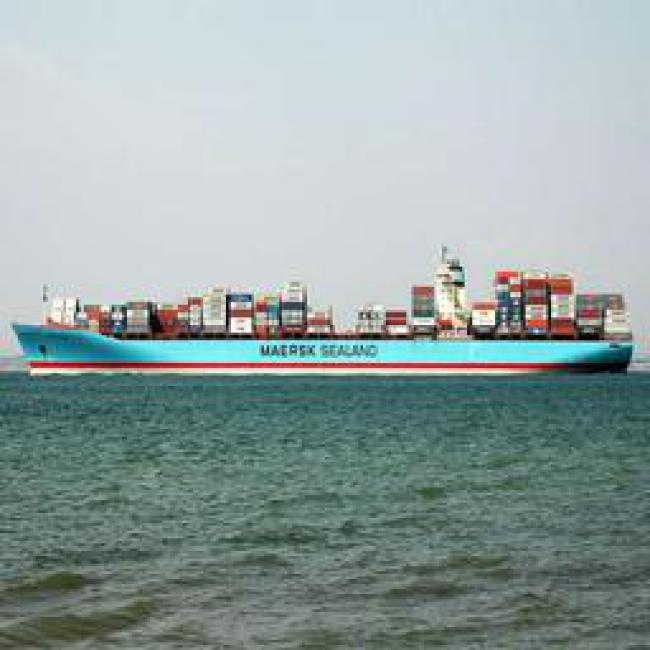Ship: (14, 282, 640, 381)
